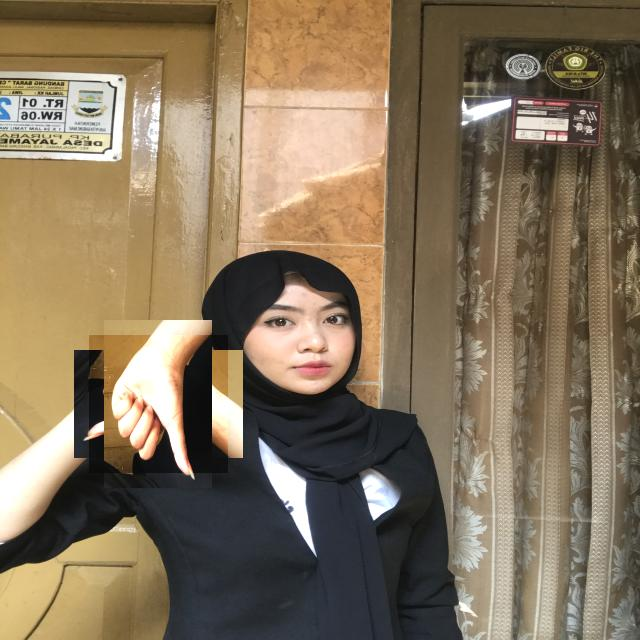sedih: (89, 335, 228, 473)
